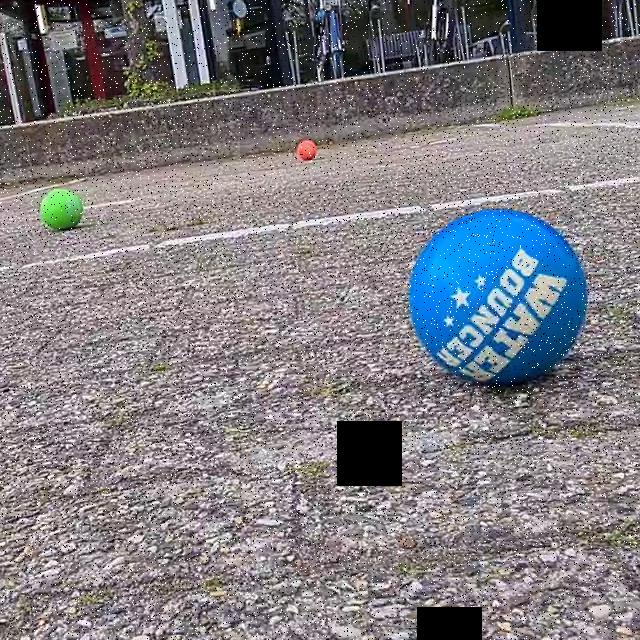ball: (34, 188, 87, 233), (292, 134, 318, 163)
